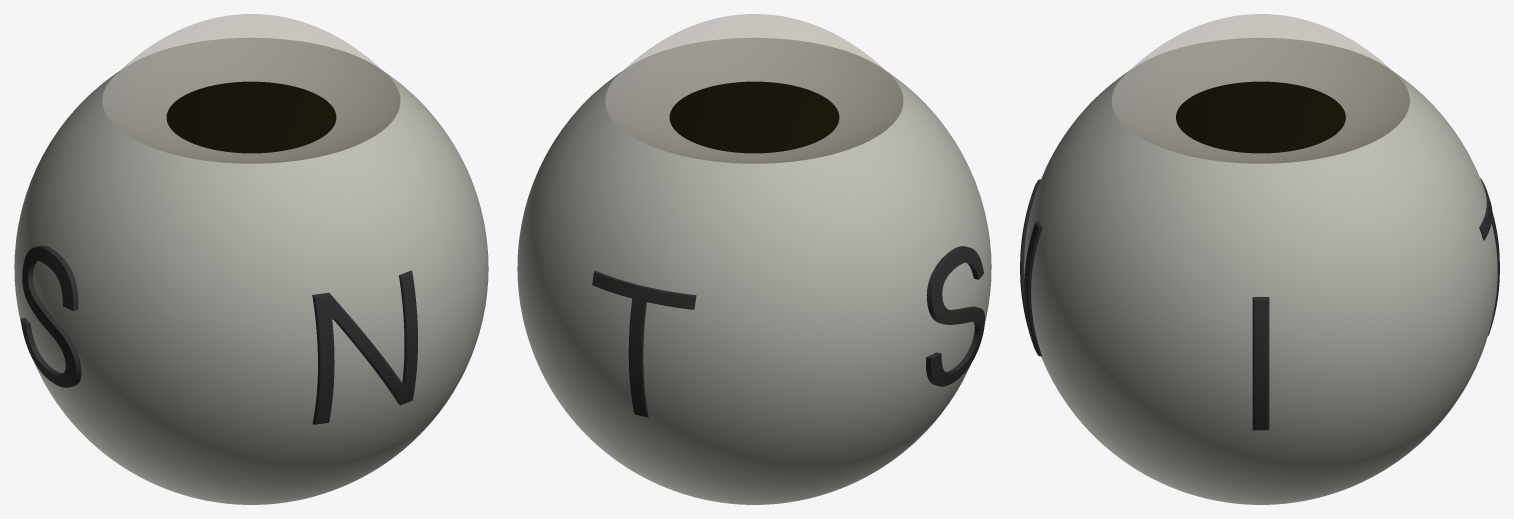
Rendered from eyeball_os.gltf.
The picture shows the model from 3 angles, left to right: view 1: azimuth 30°, elevation 25°; view 2: azimuth 150°, elevation 25°; view 3: azimuth 270°, elevation 25°; orthographic projection.
Bounding box in the file's own units: 0.3673 × 0.38 × 0.3643.
